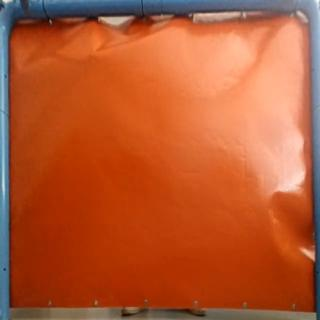Hit-hRxx: (84, 50, 100, 61)
